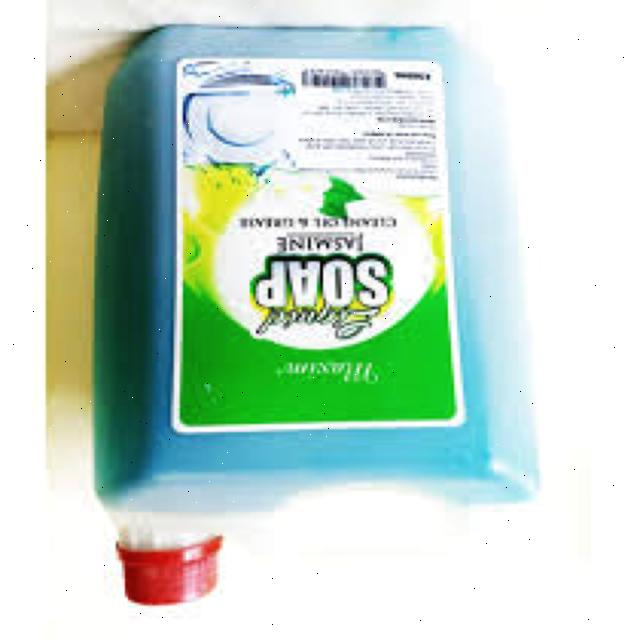liquid soap: (28, 23, 555, 611)
